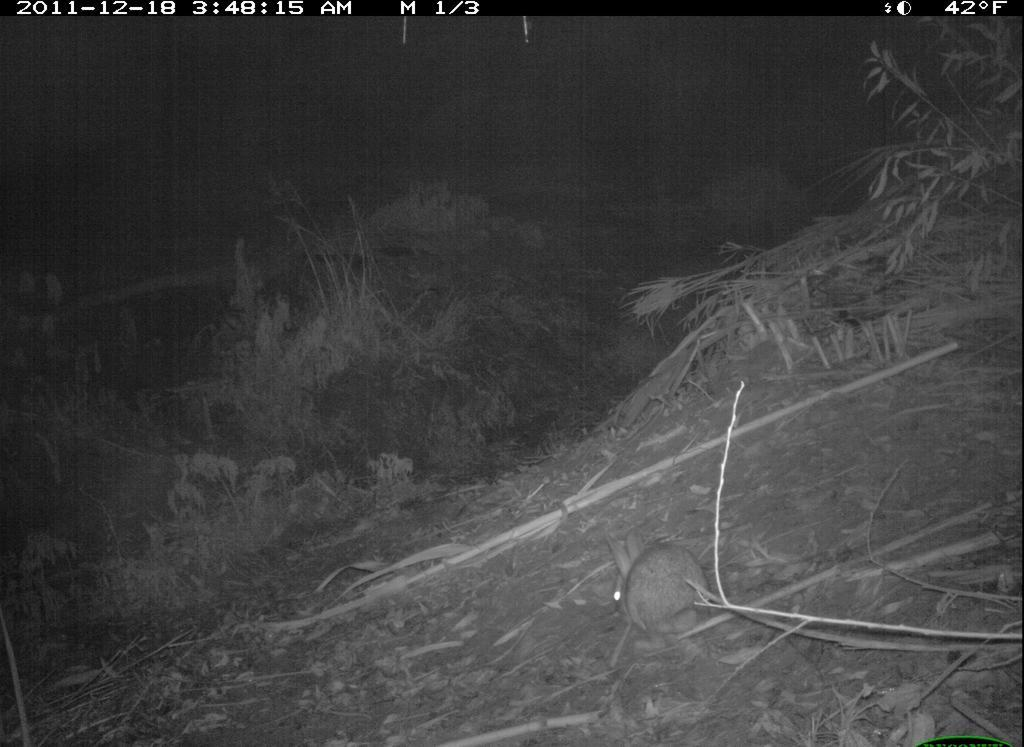rabbit: (596, 515, 739, 664)
